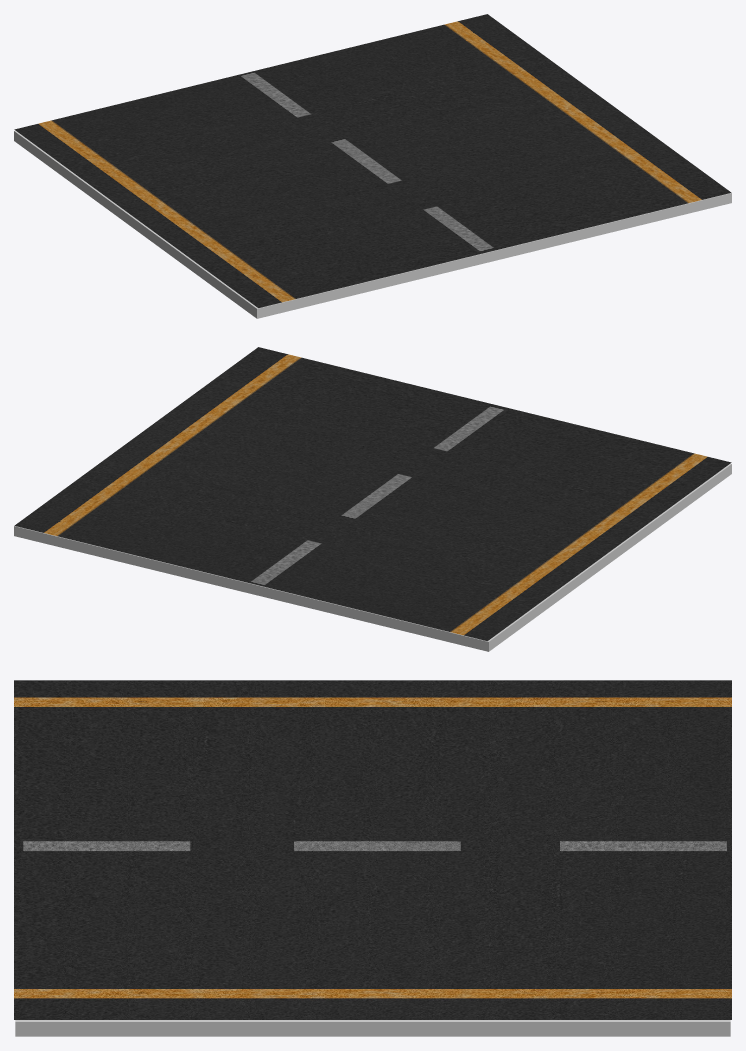
The model's file is TwoWayRoad.fbx.
3 renders of one model, top to bottom at view 1: azimuth 30°, elevation 25°; view 2: azimuth 150°, elevation 25°; view 3: azimuth 270°, elevation 25°, orthographic. The views are drawn at different scales.
Visible parts, largest first — view 1: Plane, Cube; view 2: Plane, Cube; view 3: Plane, Cube.
Part boxes in pixels (box(x1,y1,x2,y2)): Plane: box(14, 14, 731, 307); Cube: box(14, 130, 731, 318); Plane: box(14, 347, 731, 640); Cube: box(14, 463, 731, 651); Plane: box(14, 680, 731, 1019); Cube: box(15, 1020, 730, 1036).
Size of the model in its own units: 2115 by 46.27 by 1884.
